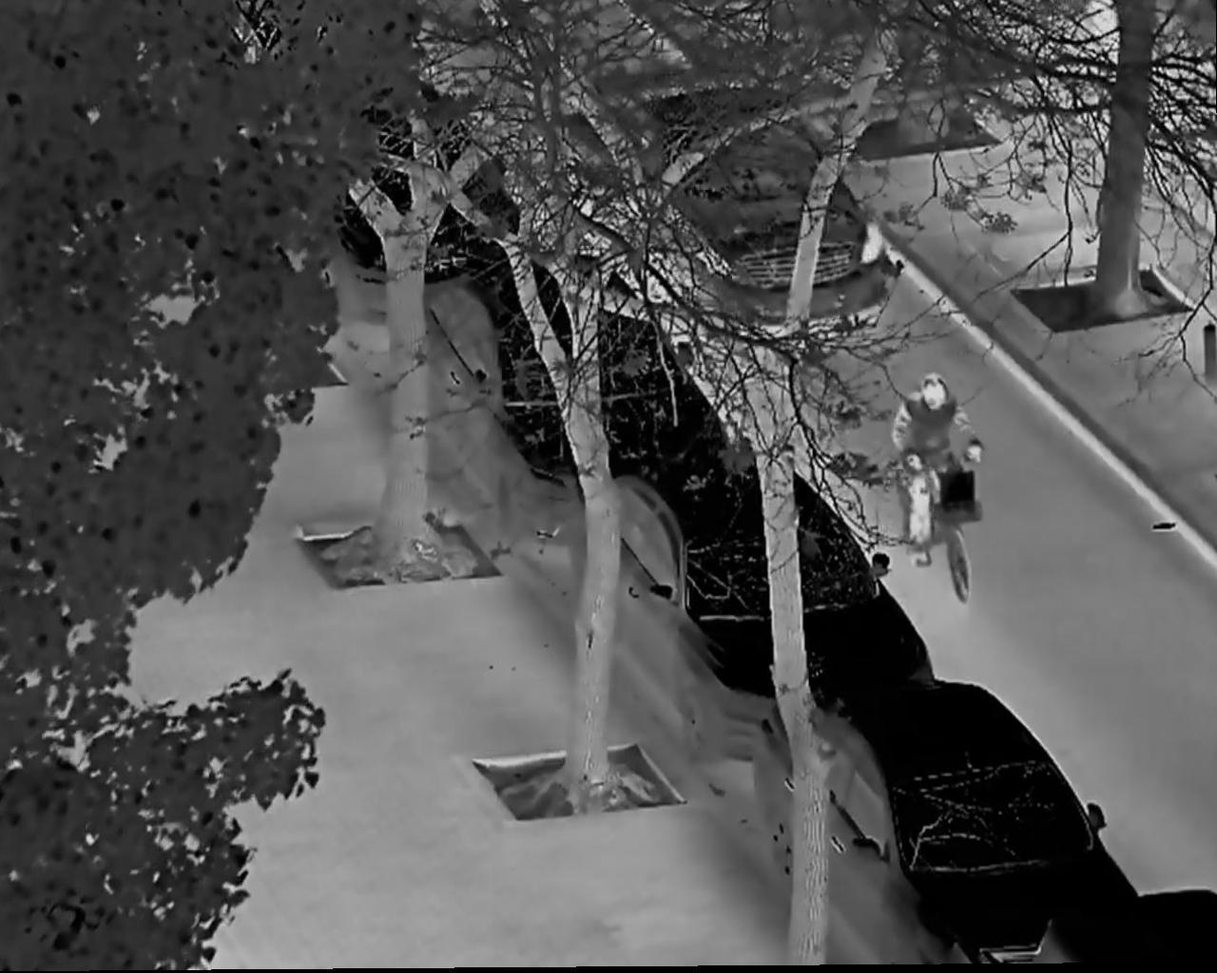person: (893, 377, 990, 563)
